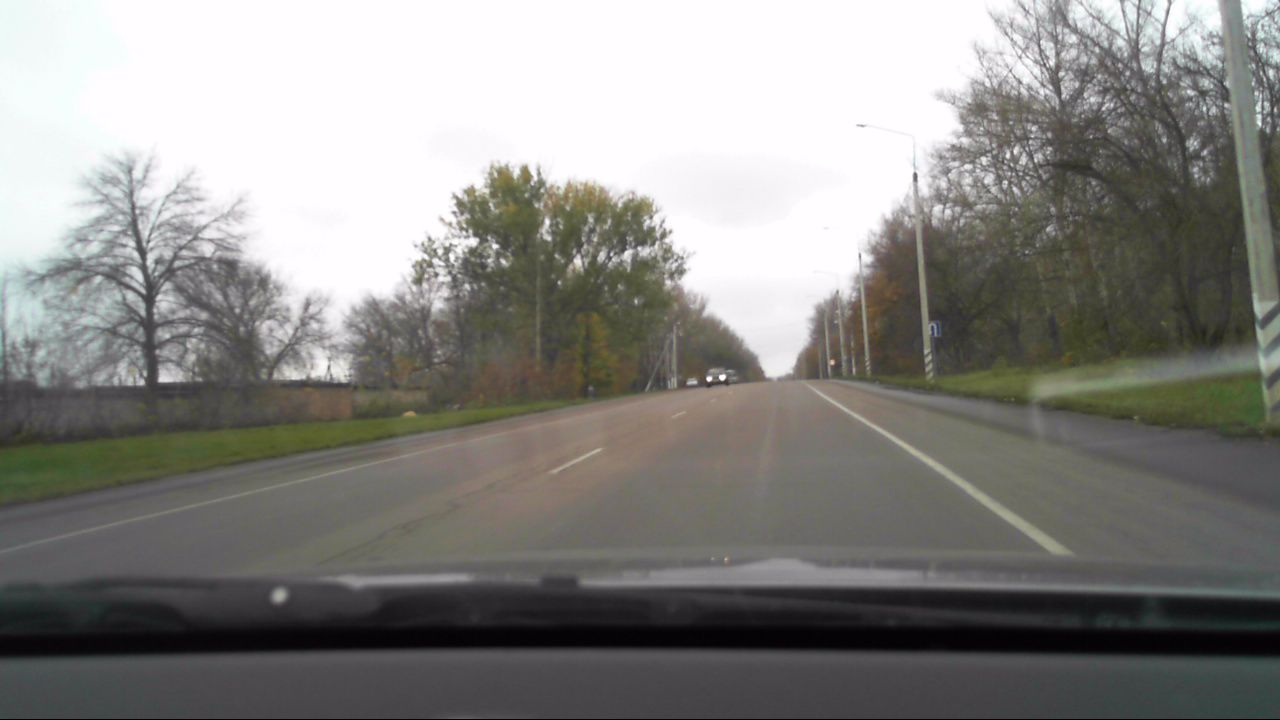U-turn: (929, 321, 940, 337)
